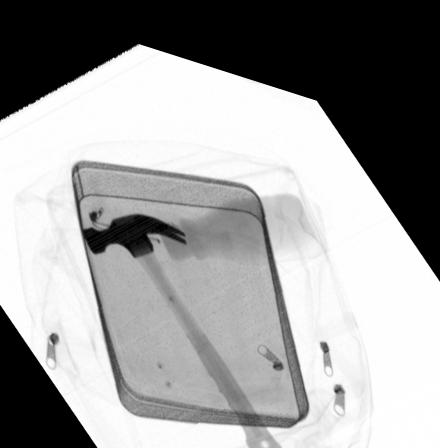Hammer: (77, 201, 285, 443)
